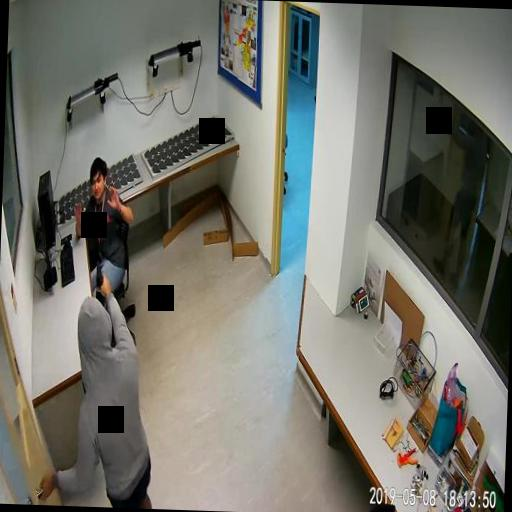Handgun: (94, 258, 110, 294)
